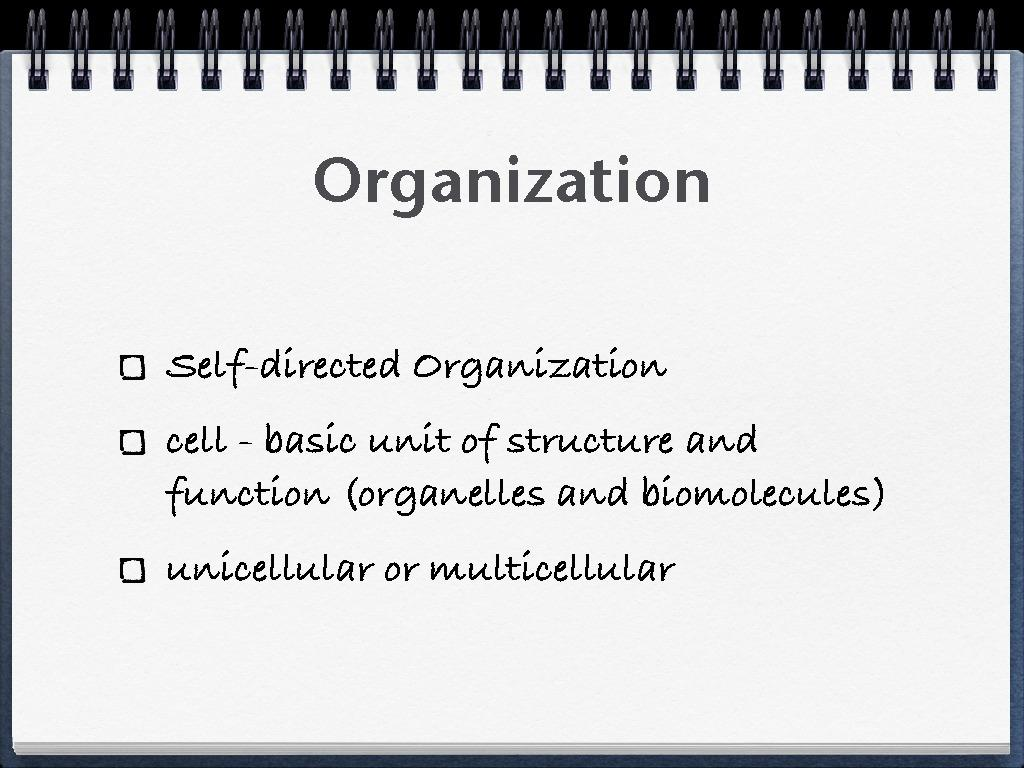paragraph: (102, 328, 916, 599)
title: (313, 143, 723, 216)
